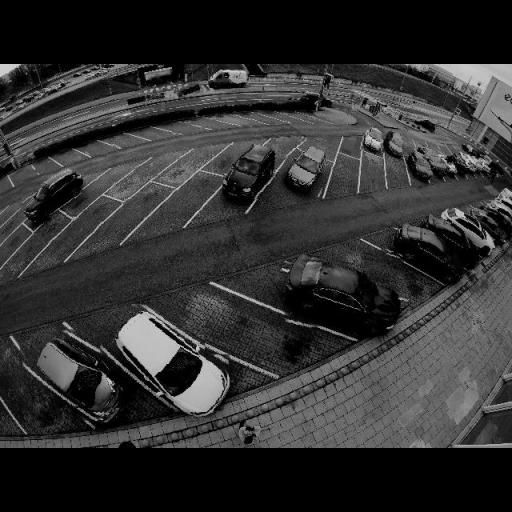busy: (97, 304, 231, 416), (22, 326, 126, 426), (280, 251, 410, 327), (394, 224, 462, 276), (21, 166, 83, 221), (436, 206, 500, 256), (223, 144, 276, 200), (282, 137, 330, 196), (486, 198, 512, 240), (407, 146, 439, 180), (209, 66, 250, 88), (361, 127, 386, 153), (424, 150, 448, 175), (384, 132, 408, 156), (452, 151, 479, 172), (173, 81, 203, 98), (440, 156, 458, 176), (420, 120, 439, 133)
free: (205, 306, 272, 354), (365, 253, 405, 296), (73, 209, 103, 234), (170, 188, 204, 210), (34, 220, 62, 244), (332, 164, 356, 188), (122, 198, 150, 218), (134, 163, 159, 181), (386, 162, 408, 182), (362, 161, 384, 180), (364, 166, 384, 186), (86, 144, 108, 158), (114, 137, 136, 149), (177, 156, 197, 169), (171, 122, 192, 134), (224, 152, 243, 165), (340, 140, 359, 153), (57, 152, 77, 164), (140, 130, 164, 140), (96, 176, 116, 188), (34, 161, 52, 173), (226, 114, 241, 128), (201, 118, 218, 128), (250, 113, 265, 124), (278, 113, 290, 124)
